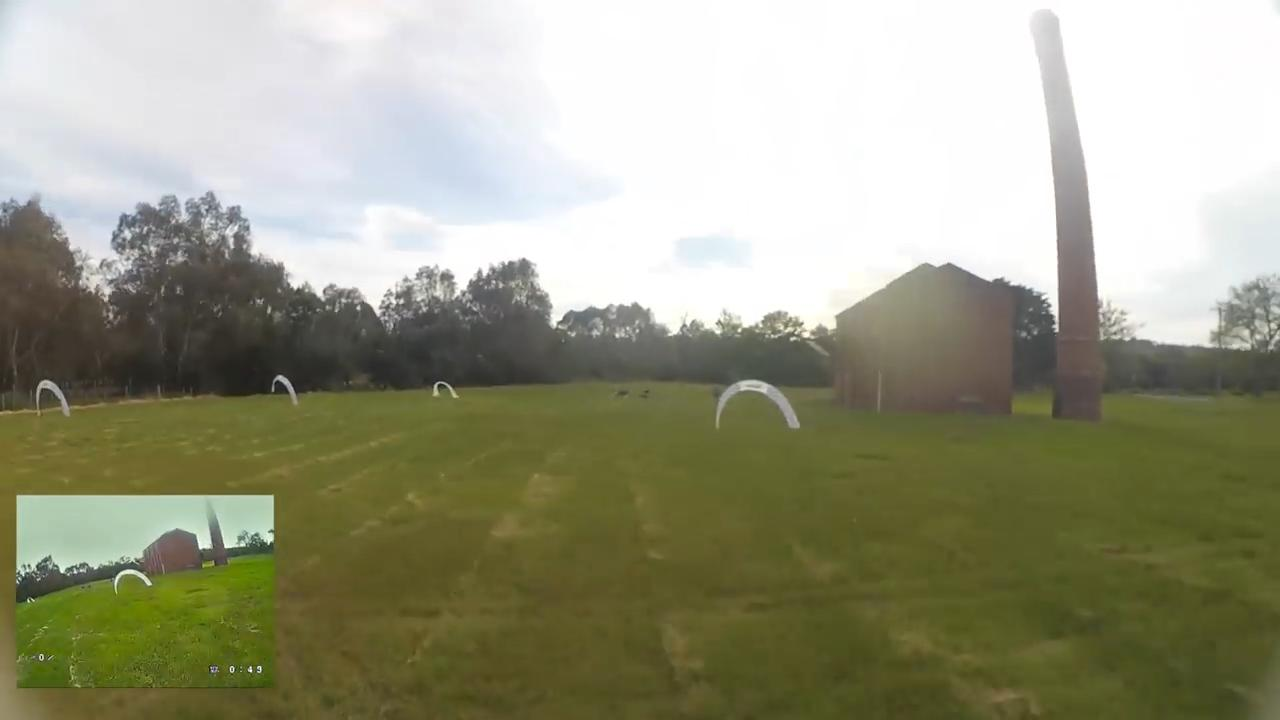gate: (714, 379, 803, 436), (36, 379, 73, 417), (433, 379, 461, 402)
